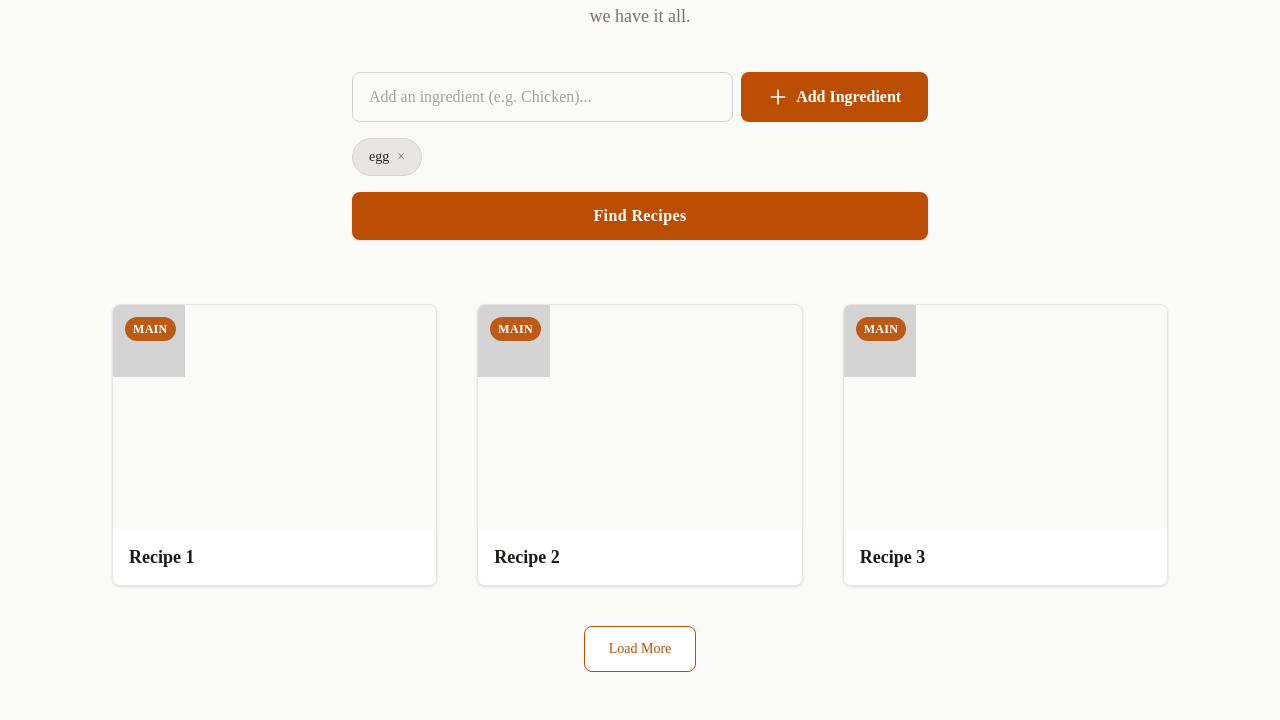
Test: Mobile recipe accumulation › appends second-page recipes when Load More is tapped
(page scrolled)
Expected: the heading "Recipe 1" is shown, [129, 546, 194, 566]
Step 1. Click the button "Load More" → (640, 649), box [584, 626, 696, 672]
(page scrolled)
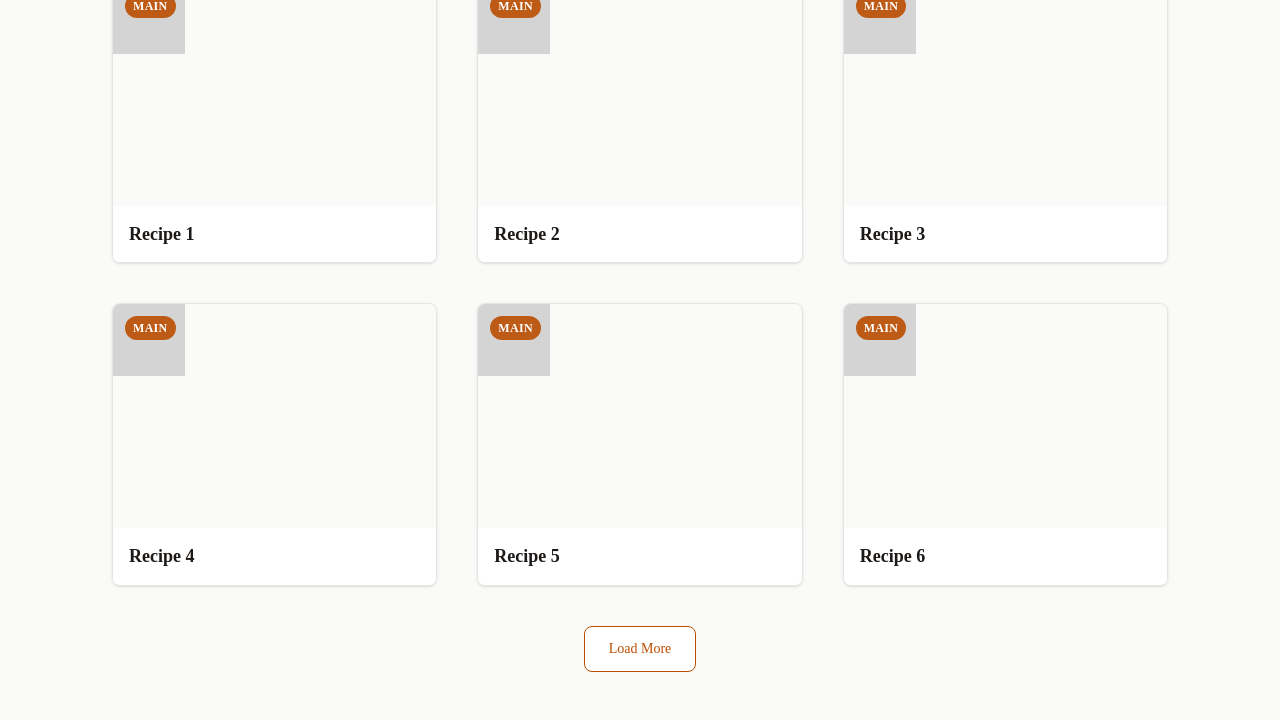
Expected: the heading "Recipe 4" is shown, [129, 546, 194, 566]
